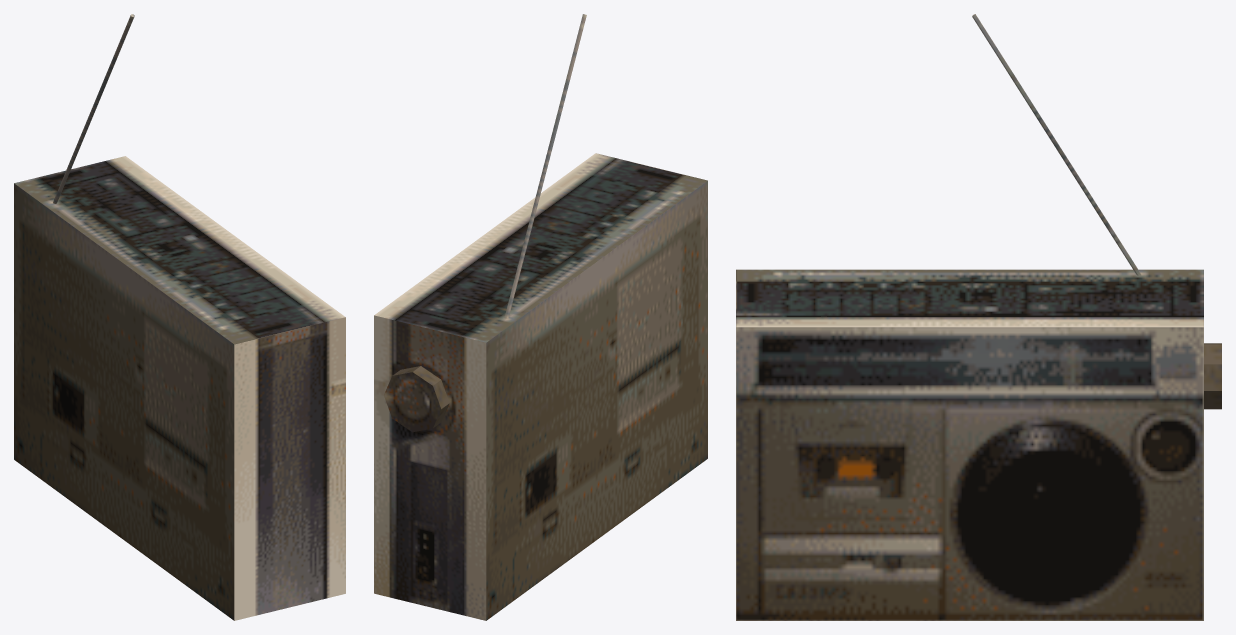
Rendered from Магнитола.fbx.
3 renders of one model, left to right at view 1: azimuth 30°, elevation 25°; view 2: azimuth 150°, elevation 25°; view 3: azimuth 270°, elevation 25°, orthographic. The views are drawn at different scales.
Parts seen in each view (by area): view 1: Radio; view 2: Radio; view 3: Radio.
Part boxes in pixels (left/top/right/bottom): Radio: left=14, top=14, right=345, bottom=620; Radio: left=374, top=14, right=707, bottom=620; Radio: left=736, top=14, right=1221, bottom=620.
Size of the model in its own units: 9.5 by 42.46 by 33.74.
1 material, 1 textured.
